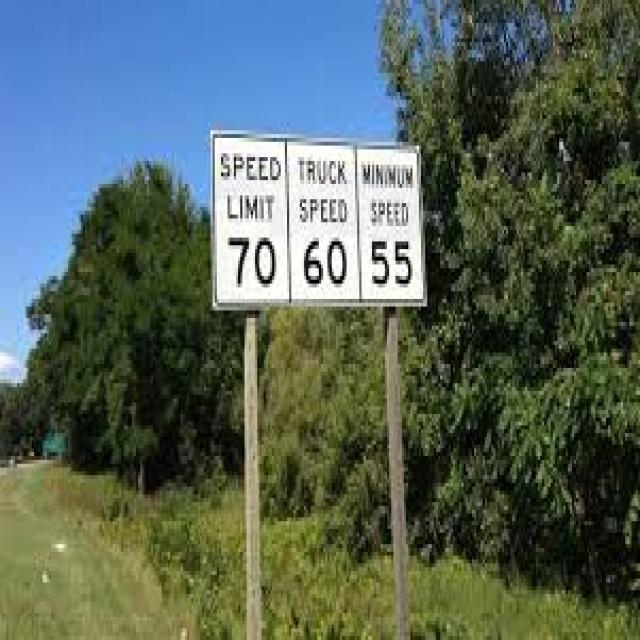speedLimit70: (210, 134, 294, 303)
